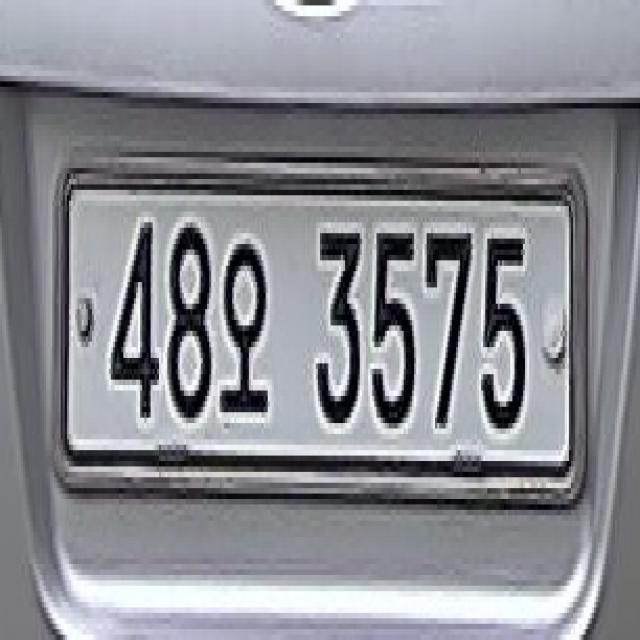3: (309, 213, 366, 435)
4: (102, 208, 164, 456)
5: (476, 226, 535, 450), (368, 220, 421, 442)
7: (424, 219, 474, 452)
8: (166, 211, 217, 452)
license_plate: (54, 141, 599, 524)
o: (218, 226, 278, 439)
